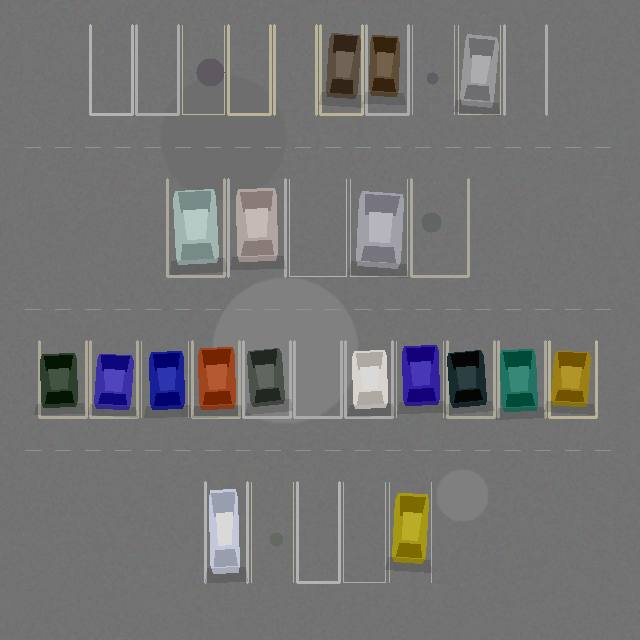space-empty: (289, 179, 346, 276), (411, 179, 468, 276), (251, 482, 293, 582), (297, 482, 339, 582), (343, 482, 385, 582), (90, 25, 132, 114), (136, 25, 178, 114), (182, 25, 224, 114), (228, 25, 270, 114), (274, 25, 316, 114), (412, 25, 454, 114), (504, 25, 546, 114), (294, 341, 341, 417)
space-occupied: (167, 179, 224, 276), (228, 179, 285, 276), (350, 179, 407, 276), (205, 482, 247, 582), (389, 482, 431, 582), (320, 25, 362, 114), (366, 25, 408, 114), (458, 25, 500, 114), (39, 341, 86, 417), (90, 341, 137, 417), (141, 341, 188, 417), (192, 341, 239, 417), (243, 341, 290, 417), (345, 341, 392, 417), (396, 341, 443, 417), (447, 341, 494, 417), (498, 341, 545, 417), (549, 341, 596, 417)
